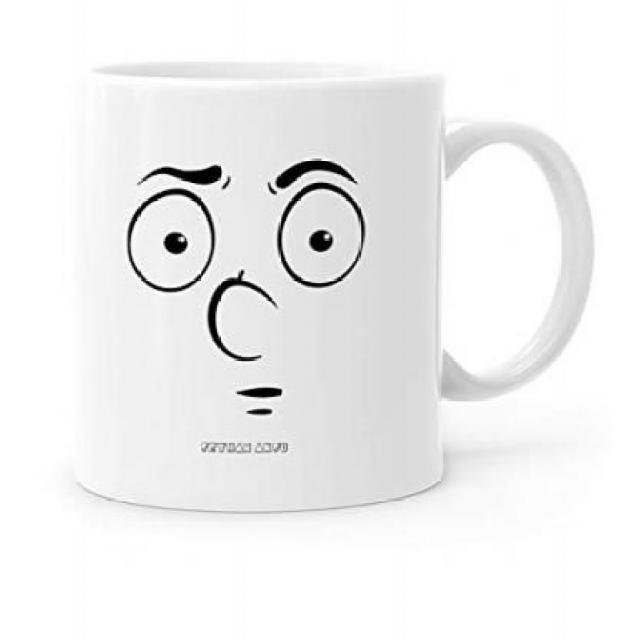taza: (76, 56, 596, 515)
